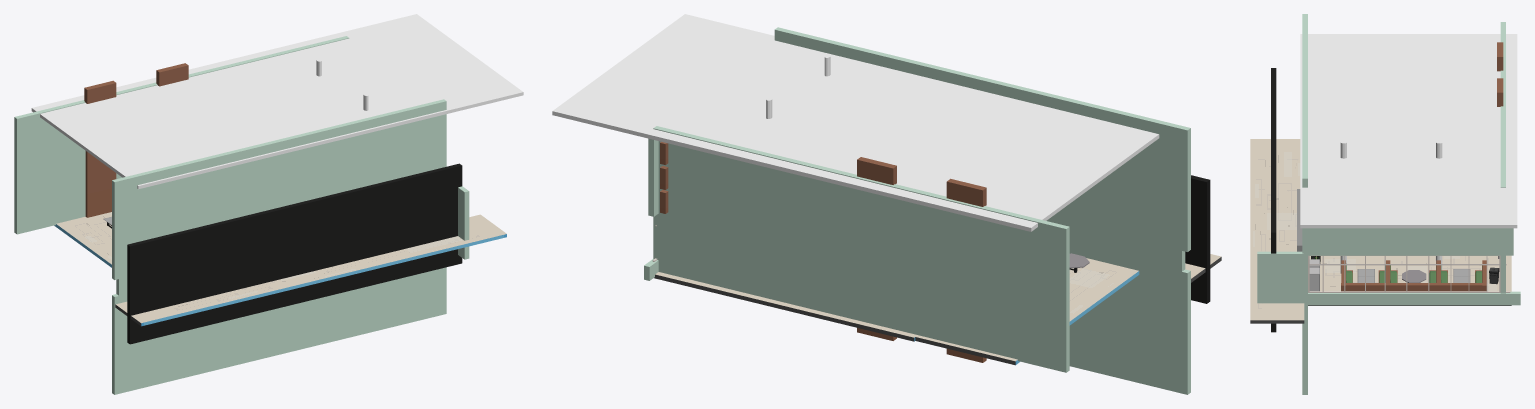
The model's file is RiscuitsDiningHall.gltf.
3 views of the same model, side by side, from view 1: azimuth 30°, elevation 25°; view 2: azimuth 150°, elevation 25°; view 3: azimuth 270°, elevation 25° (orthographic). The views are drawn at different scales.
Visible parts, largest first — view 1: cuboid (×10); view 2: cuboid (×12); view 3: cuboid (×14), cylinder, VendingMach, SmallDesk.
Part boxes in pixels (x1,y1,x2,y2): cuboid (×10): (14, 14, 523, 394); cuboid (×12): (552, 14, 1210, 394); cuboid (×14): (1250, 14, 1520, 394); cylinder: (1402, 270, 1426, 282); VendingMach: (1309, 267, 1319, 291); SmallDesk: (1453, 269, 1470, 282).
Size of the model in its own units: 33.23 by 17.05 by 18.78.
Materials: 20 (20 with a texture image).
